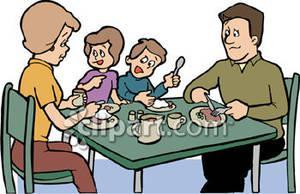chair: (1, 82, 77, 192)
diningtable: (55, 97, 276, 194)
person: (181, 1, 291, 193), (8, 1, 100, 192), (106, 35, 185, 104), (73, 26, 130, 106)
